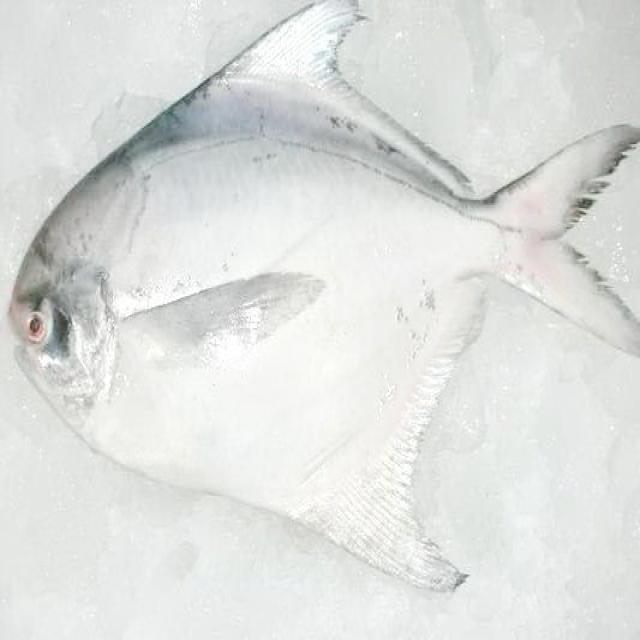pomfred: (0, 0, 636, 592)
